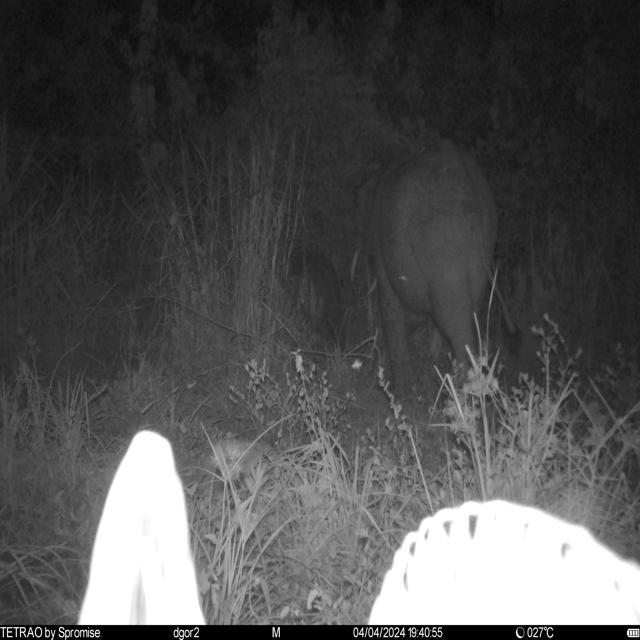elephant: (348, 138, 504, 403)
tusk: (348, 248, 361, 288), (365, 278, 379, 304)
